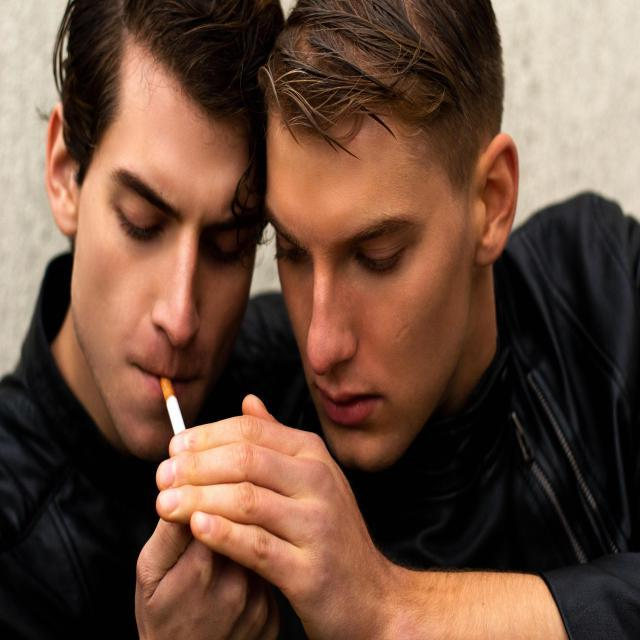cigarette: (141, 367, 188, 470)
